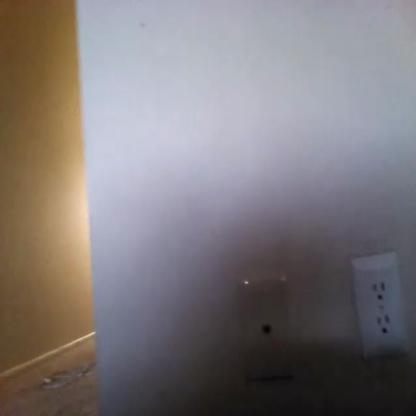OUTLET: (351, 252, 410, 364)
